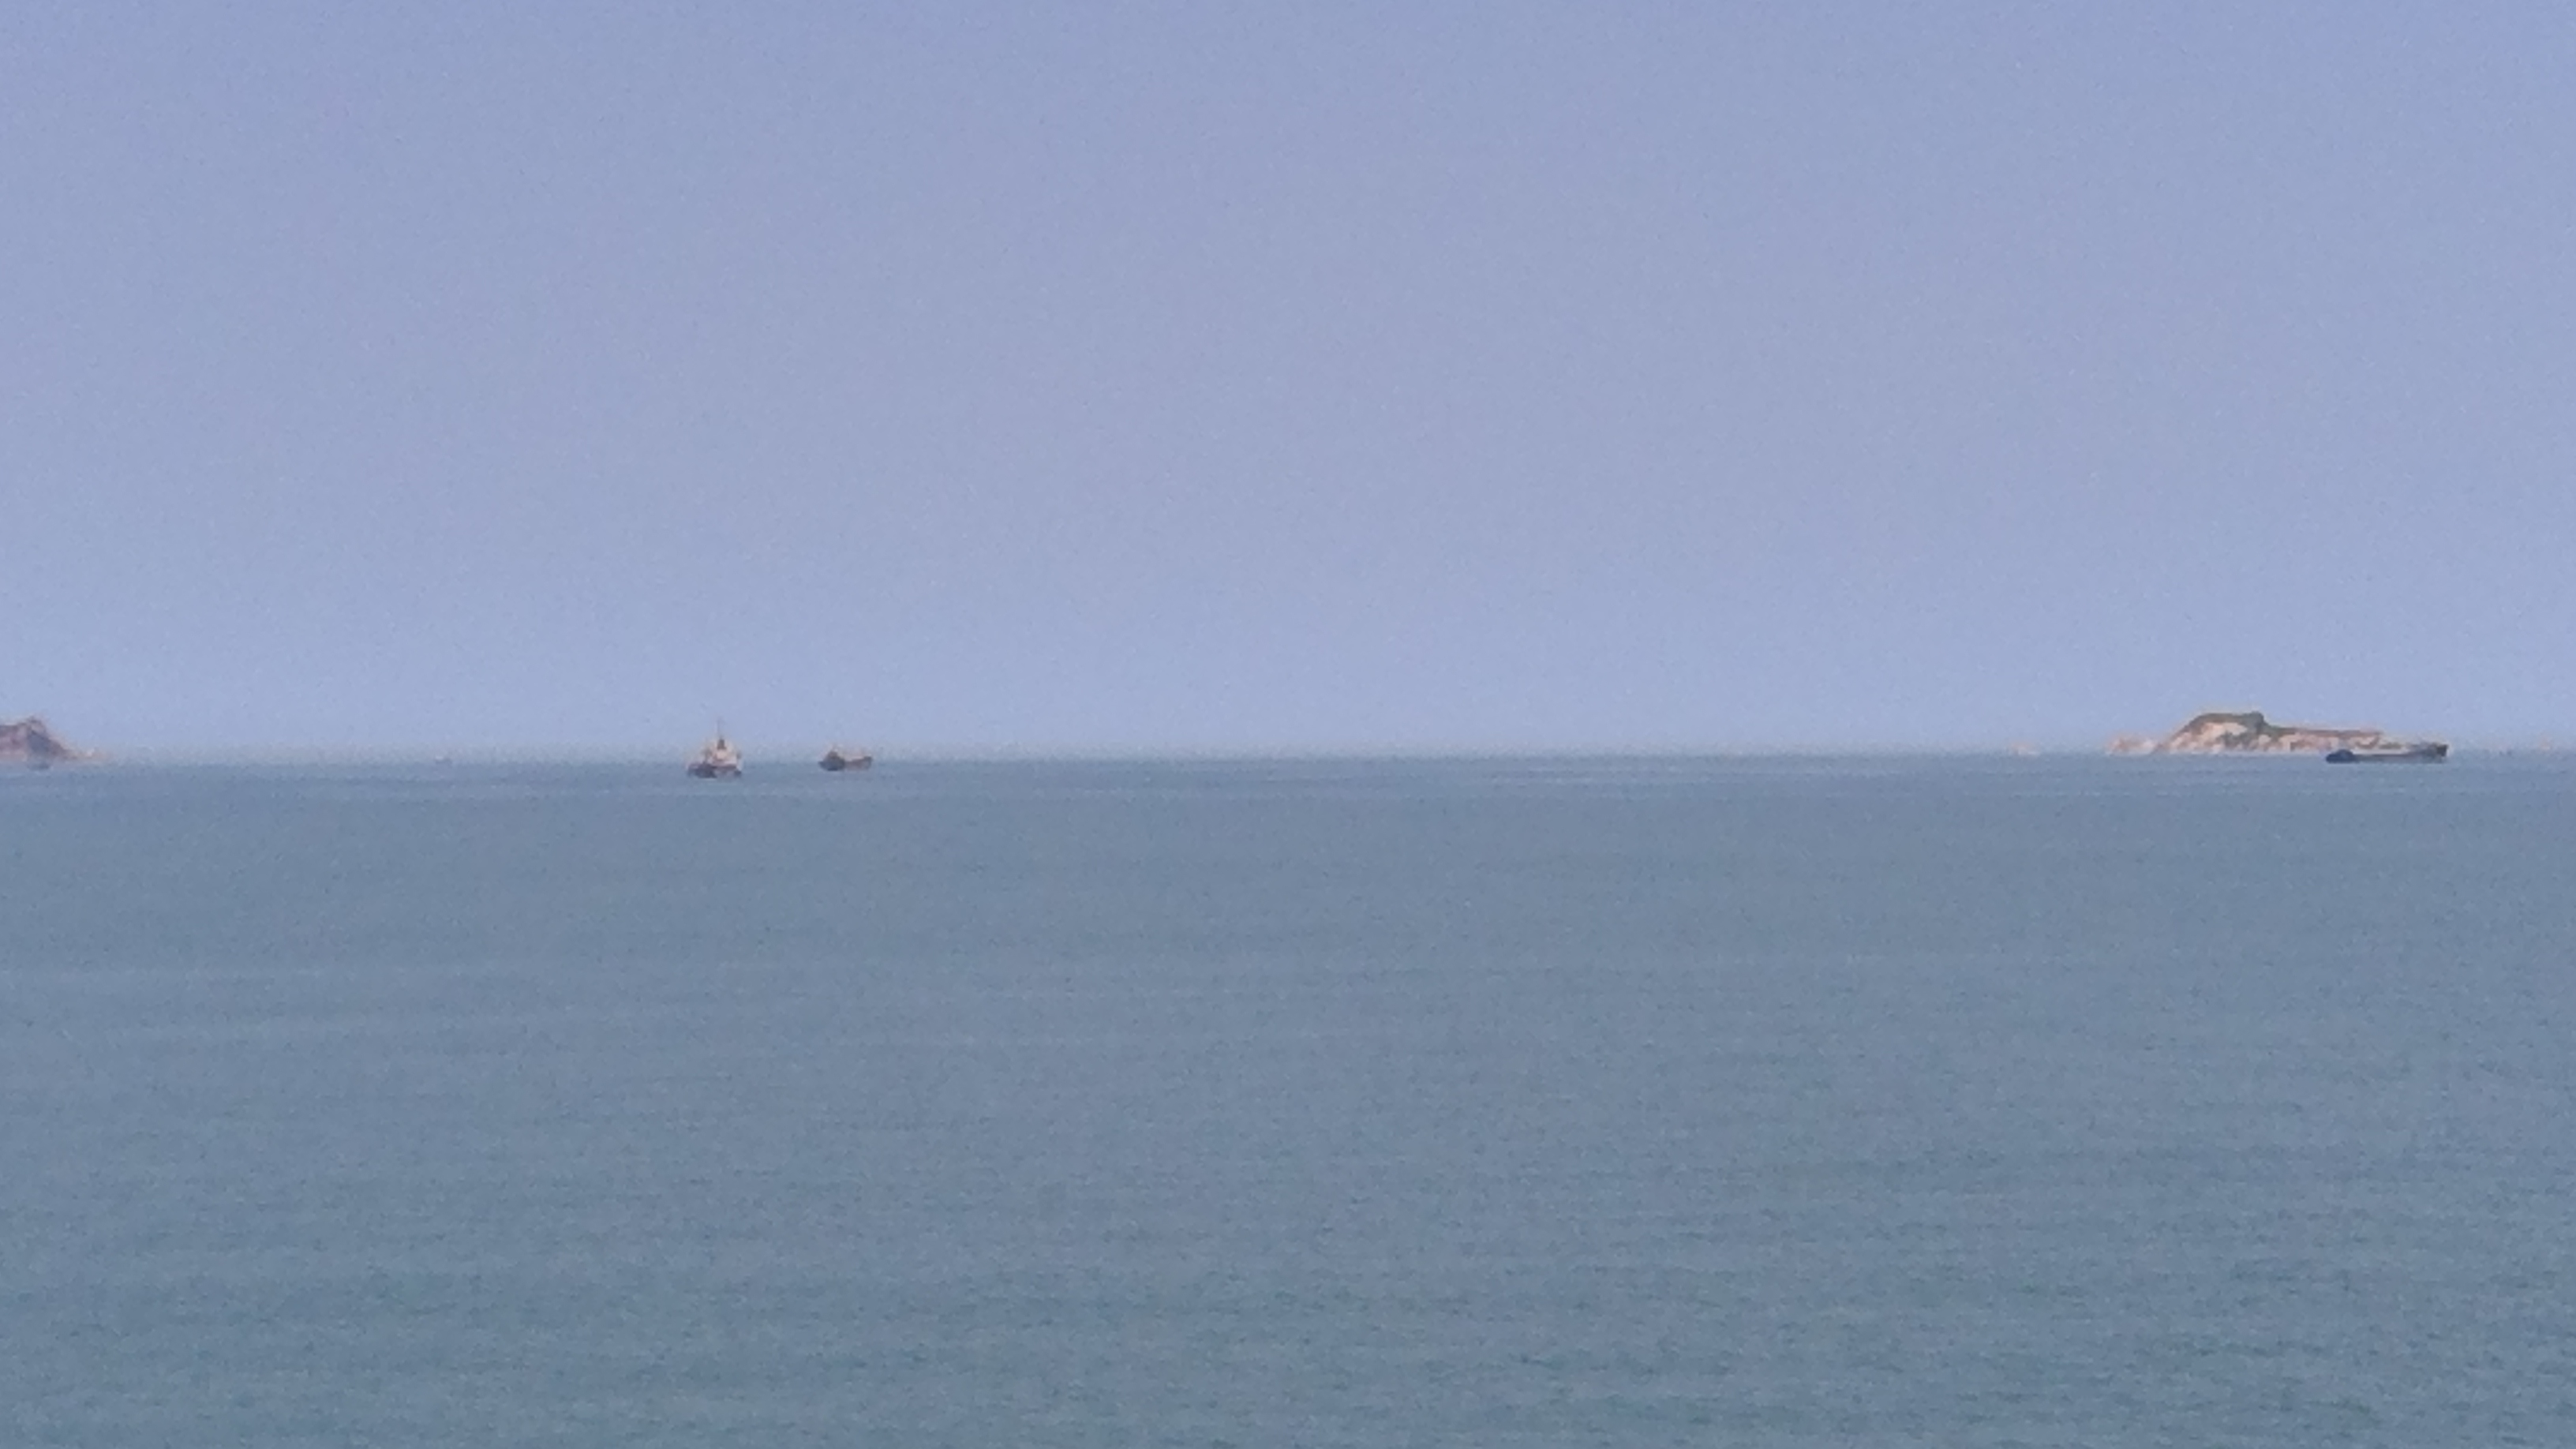rock: (2107, 694, 2443, 755)
ship: (674, 702, 761, 798)
